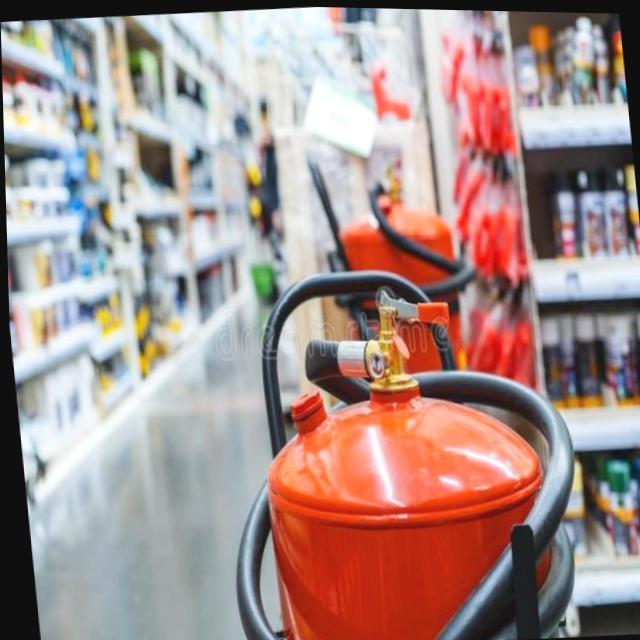FireExtinguisher: (201, 232, 604, 640), (290, 118, 504, 627)
